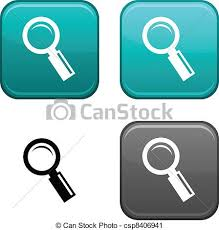searchIcon: (139, 135, 198, 204), (18, 15, 77, 83), (139, 15, 195, 84), (22, 137, 77, 203)
